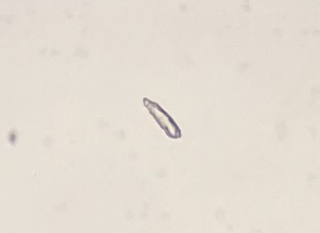microplastic: (143, 97, 181, 139)
